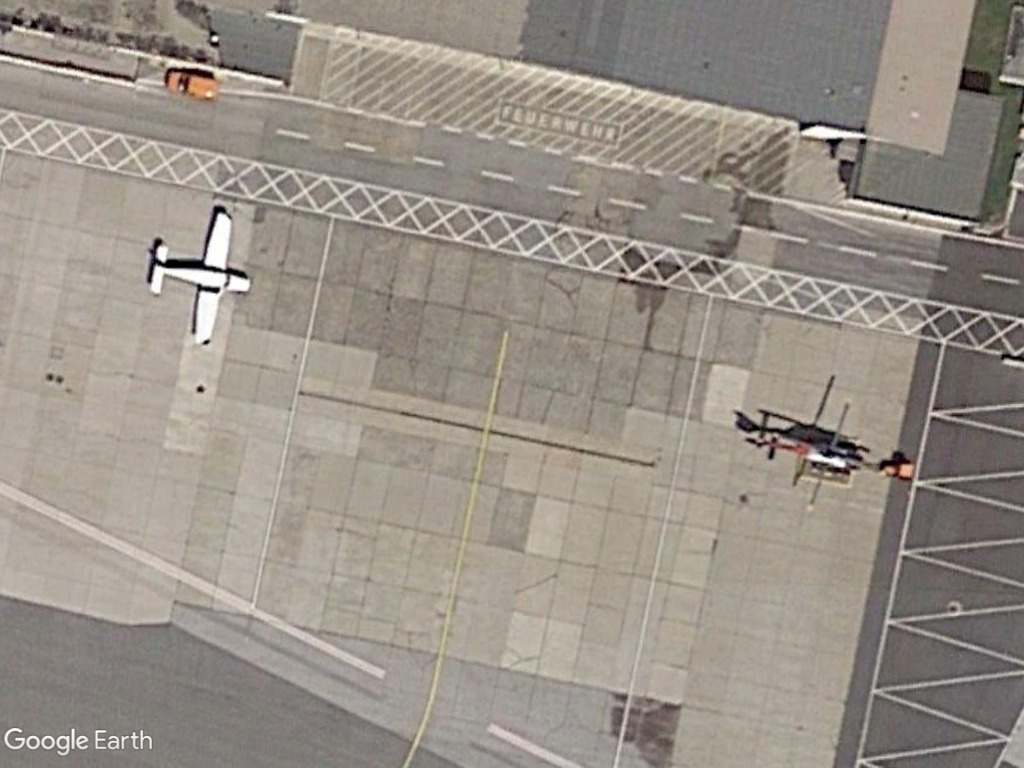helicopter: (734, 395, 882, 503)
trainer: (148, 197, 258, 350)
van: (165, 66, 226, 106)
